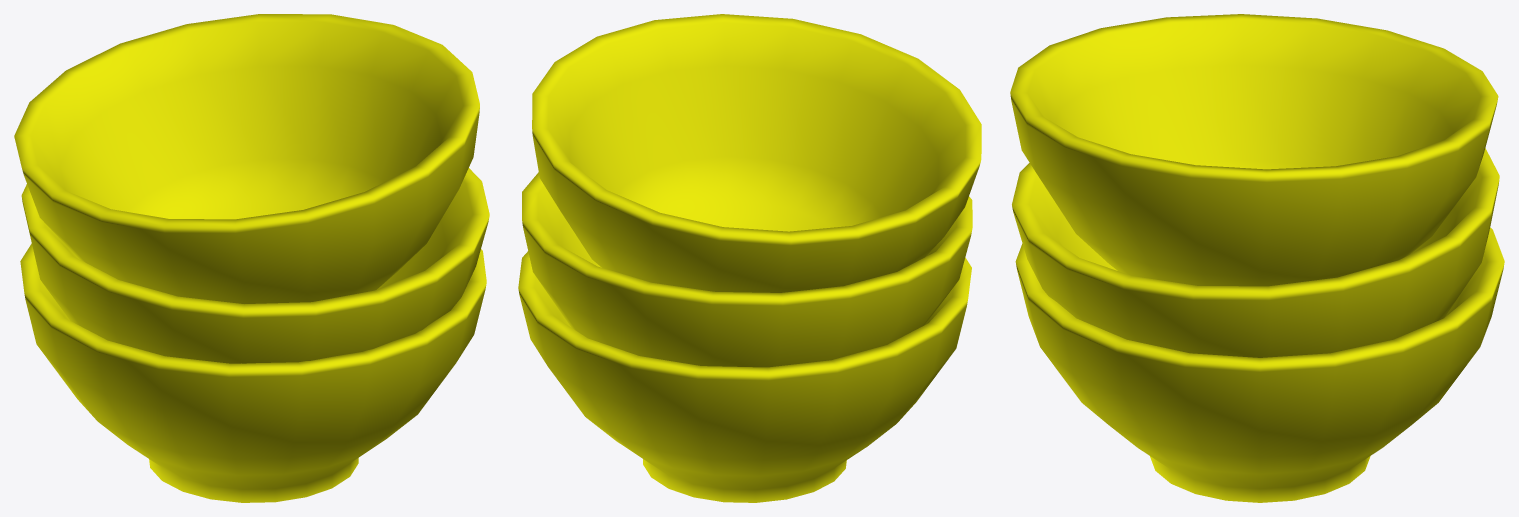
The model's file is Bowl_Pile_01_Lod0.fbx.
The picture shows the model from 3 angles, left to right: view 1: azimuth 30°, elevation 25°; view 2: azimuth 150°, elevation 25°; view 3: azimuth 270°, elevation 25°; orthographic projection. The views are drawn at different scales.
Visible parts, largest first — view 1: Bowl_Pile_01_Lod0; view 2: Bowl_Pile_01_Lod0; view 3: Bowl_Pile_01_Lod0.
Boxes of the visible parts, <box> form: Bowl_Pile_01_Lod0: <box>14,14,489,502</box>; Bowl_Pile_01_Lod0: <box>518,14,981,502</box>; Bowl_Pile_01_Lod0: <box>1010,14,1504,502</box>.
Size of the model in its own units: 18.76 by 15.88 by 18.6.
